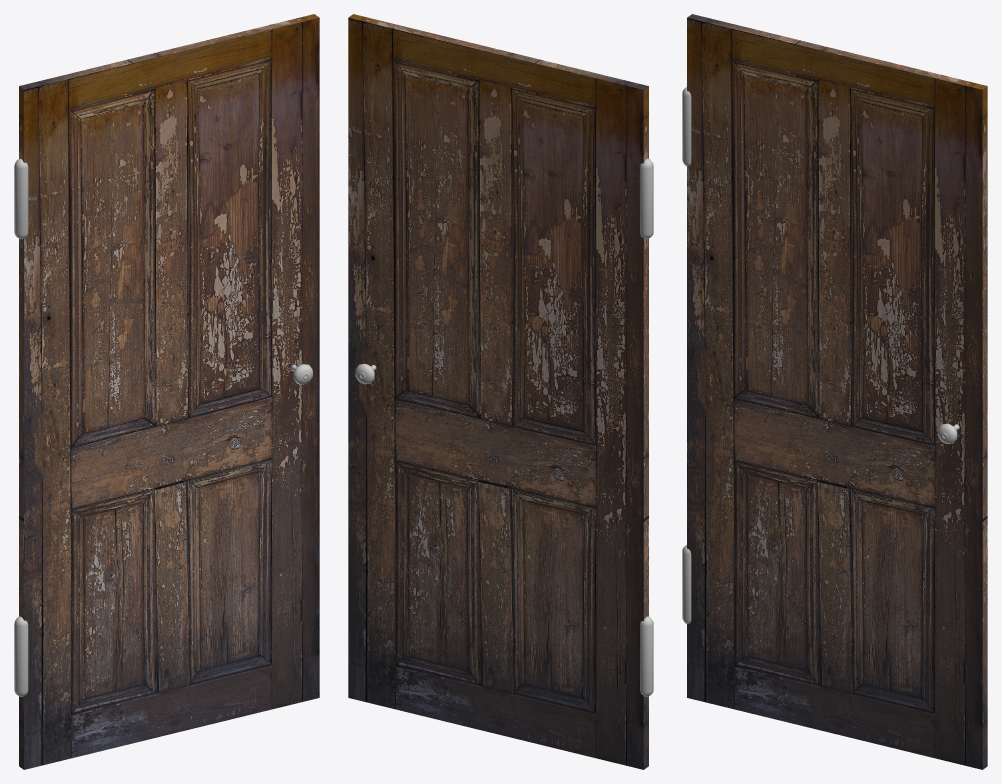
File: Door_003.fbx
3 renders of one model, left to right at view 1: azimuth 30°, elevation 25°; view 2: azimuth 150°, elevation 25°; view 3: azimuth 330°, elevation 25°, orthographic.
Parts seen in each view (by area): view 1: Door_003; view 2: Door_003; view 3: Door_003.
Part boxes in pixels (box(x1,y1,x2,y2)): Door_003: box(14, 14, 319, 769); Door_003: box(348, 14, 653, 769); Door_003: box(682, 14, 987, 769).
Size of the model in its own units: 102 by 220 by 17.13.
